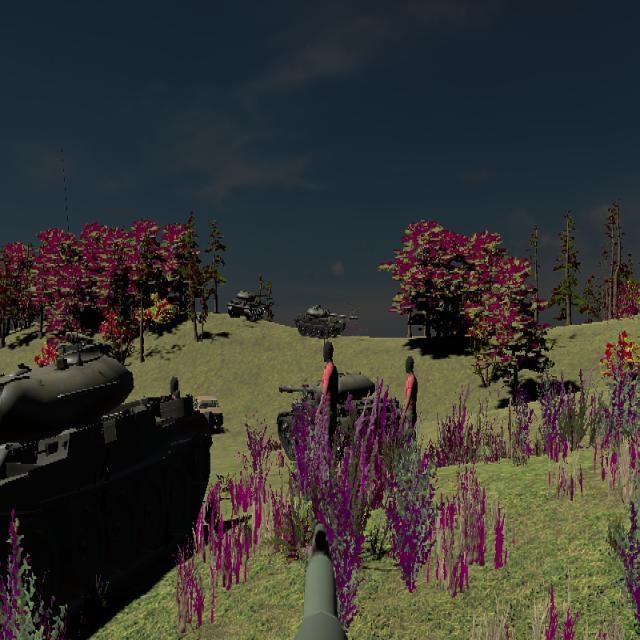Human: (318, 341, 340, 476), (400, 355, 418, 482)
Tank: (0, 336, 212, 597), (278, 372, 399, 466), (280, 370, 400, 462), (294, 304, 358, 338), (227, 289, 272, 321)
car: (195, 395, 224, 432)
